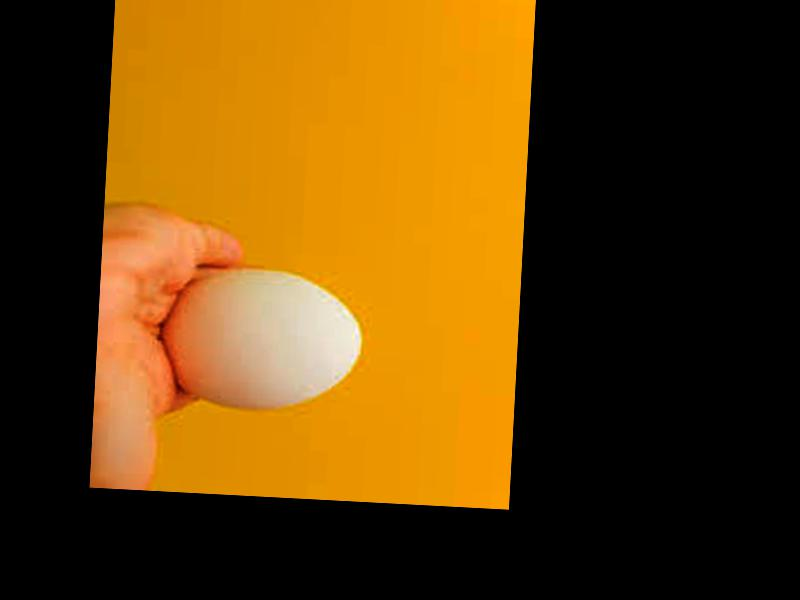Eggs: (160, 264, 366, 409)
